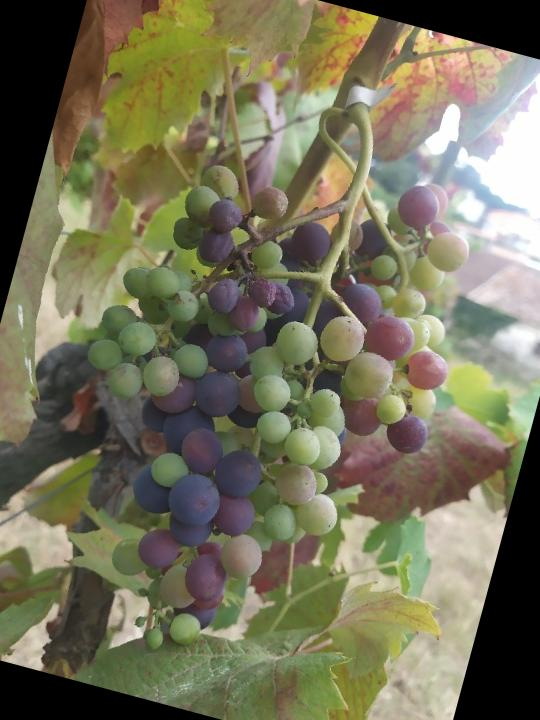grape: (11, 102, 498, 709)
